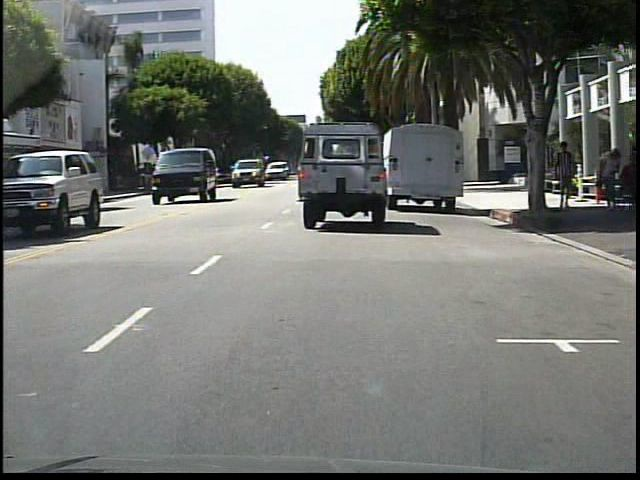person: (555, 140, 579, 211), (601, 148, 622, 211)
